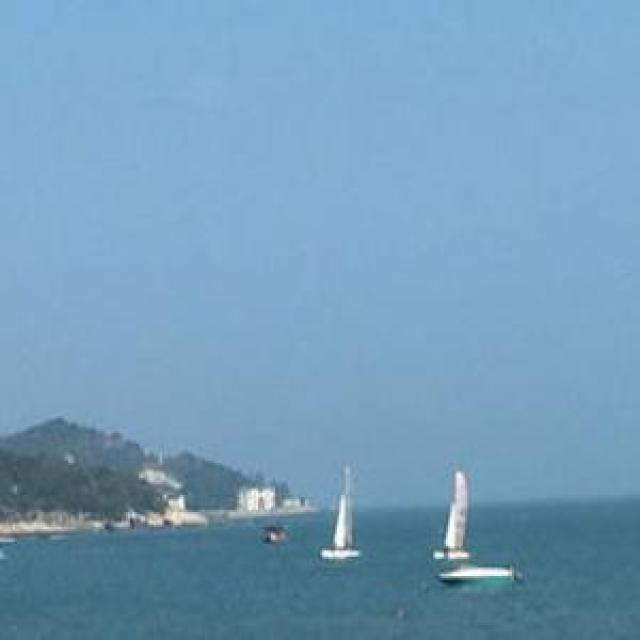sailboat: (428, 459, 517, 583), (314, 471, 360, 567)
